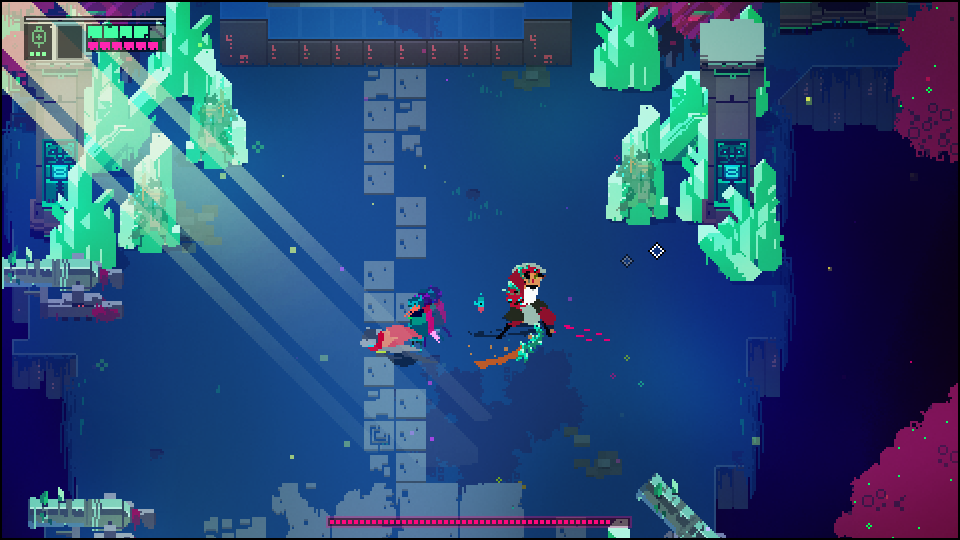hanged_man: (480, 256, 550, 364)
player: (355, 319, 424, 362)
